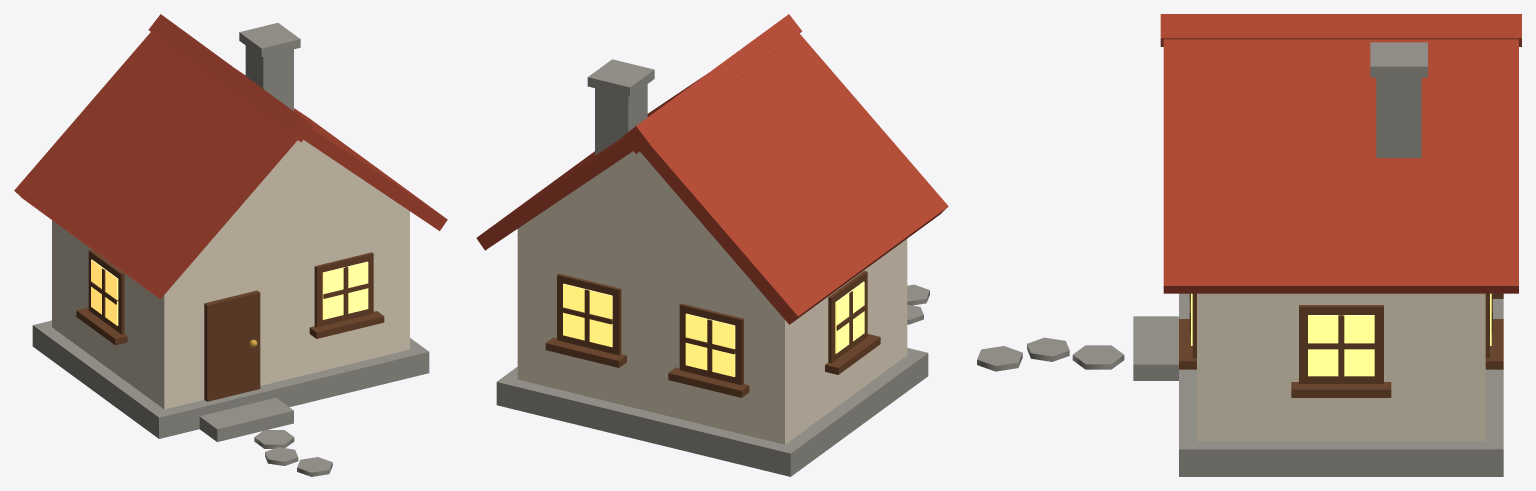
File: house.glb
3 views of the same model, side by side, from view 1: azimuth 30°, elevation 25°; view 2: azimuth 150°, elevation 25°; view 3: azimuth 270°, elevation 25° (orthographic). The views are drawn at different scales.
Visible parts, largest first — view 1: House; view 2: House; view 3: House.
Boxes of the visible parts, x1,y1,x2,y2 form: House: (14,14,447,476); House: (476,14,948,476); House: (977,14,1521,476).
Bounding box in the file's own units: 2.89 × 2.75 × 3.59.
